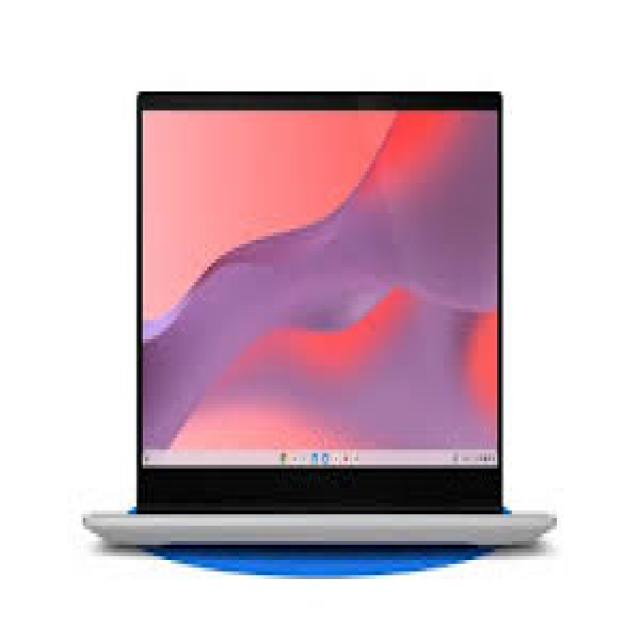others: (79, 57, 565, 556)
